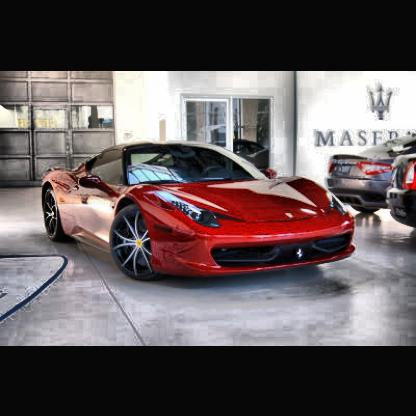Ferrari 458 Italia Coupe 2012: (42, 140, 361, 284)
